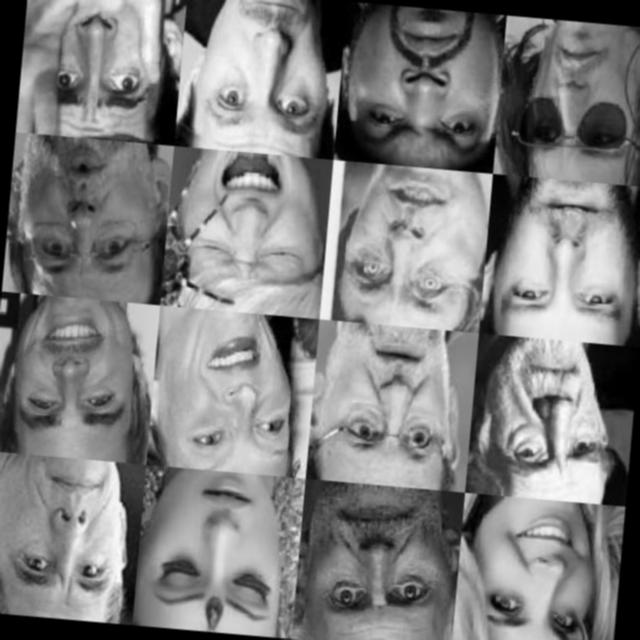angry: (344, 10, 492, 170), (332, 168, 473, 320), (483, 334, 609, 492), (508, 26, 640, 173), (24, 154, 148, 278)
fear: (320, 321, 456, 480), (27, 0, 167, 138), (183, 152, 308, 288)
happy: (161, 307, 300, 468), (4, 294, 139, 454), (468, 501, 602, 640)
neutral: (141, 472, 278, 624), (305, 483, 434, 640), (0, 459, 126, 610), (494, 188, 621, 328), (196, 0, 319, 137)
